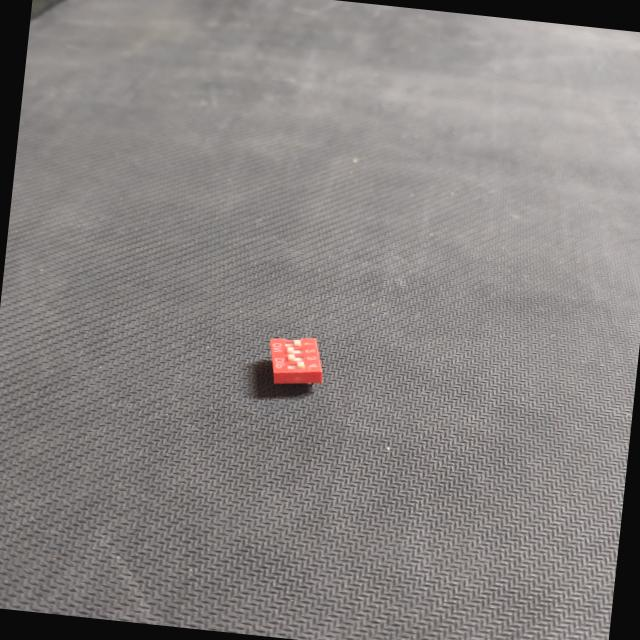switch: (241, 321, 343, 407)
